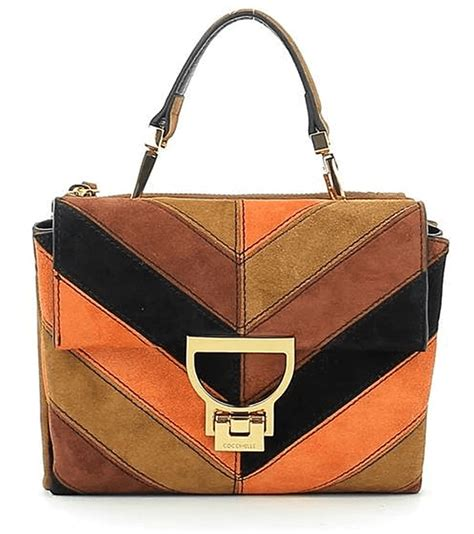gamuza: (33, 187, 449, 497)
